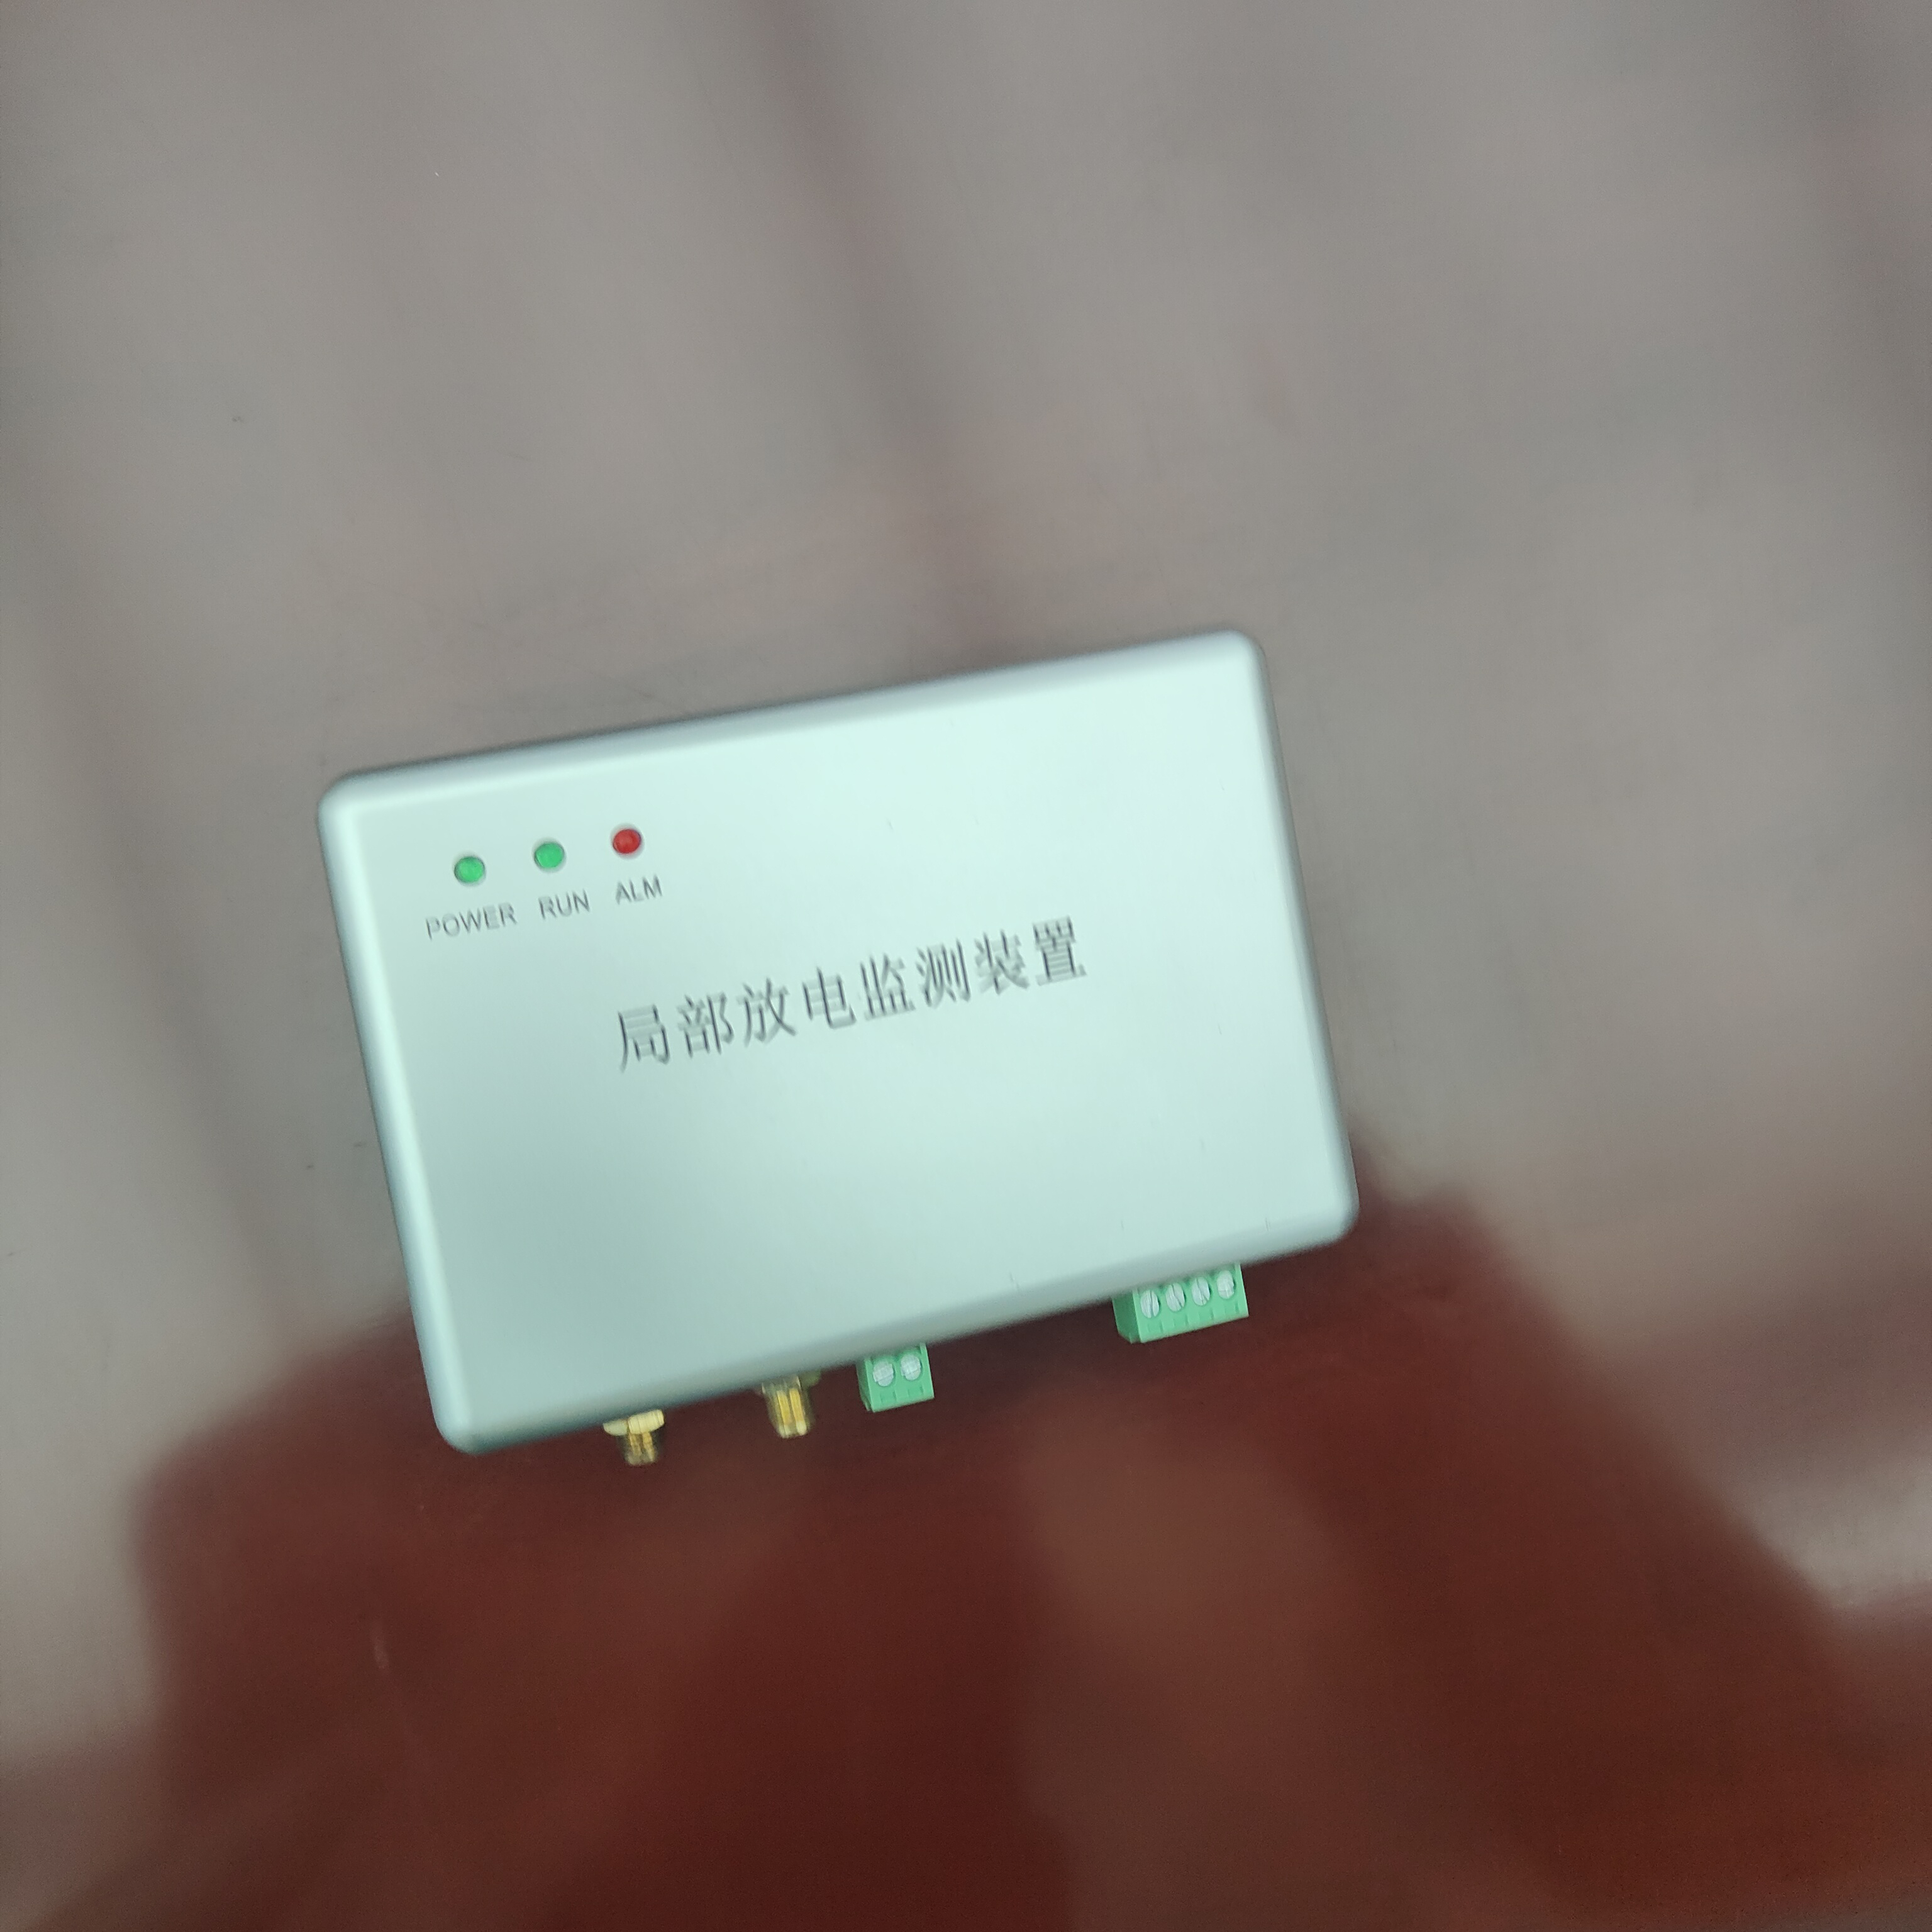jbfdjc: (324, 603, 1389, 1500)
